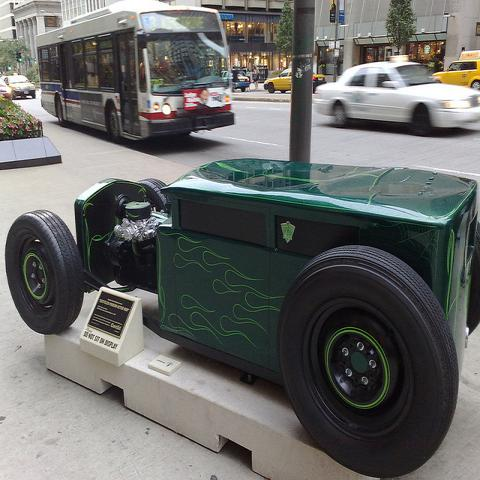bus: (33, 1, 238, 152)
car: (4, 154, 479, 475), (316, 60, 479, 128), (431, 57, 479, 90), (264, 69, 327, 94), (2, 75, 36, 99), (232, 68, 250, 92), (0, 78, 12, 104)
